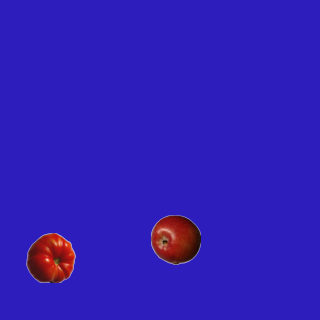Apple Braeburn: (150, 214, 200, 264)
Tomato 3: (25, 232, 75, 282)
